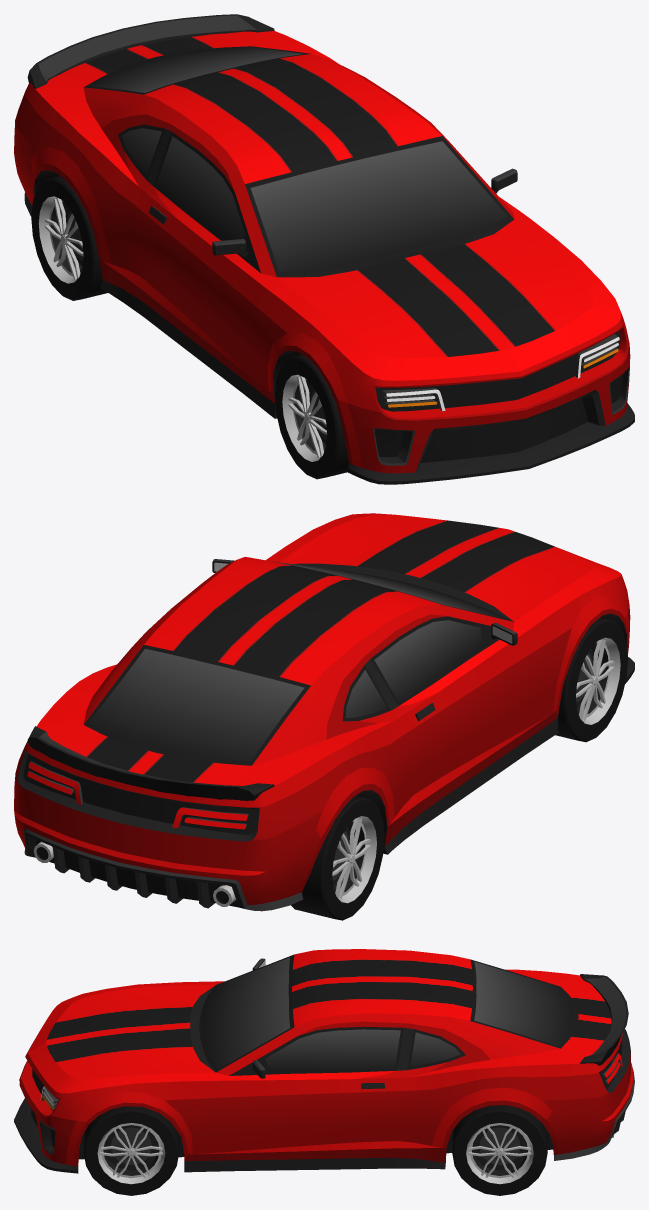
The model's file is Free Racing Car Red.fbx.
The picture shows the model from 3 angles, top to bottom: view 1: azimuth 30°, elevation 25°; view 2: azimuth 150°, elevation 25°; view 3: azimuth 270°, elevation 25°; orthographic projection. The views are drawn at different scales.
Parts seen in each view (by area): view 1: Body, FrontRightWheel, RearRightWheel, Spoiler; view 2: Body, RearRightWheel, FrontRightWheel, Spoiler; view 3: Body, RearLeftWheel, FrontLeftWheel, Spoiler.
Boxes of the visible parts, <box> form: Body: <box>14,31,634,484</box>; FrontRightWheel: <box>275,354,348,479</box>; RearRightWheel: <box>31,176,107,300</box>; Spoiler: <box>27,14,274,88</box>; Body: <box>14,513,634,911</box>; RearRightWheel: <box>291,795,384,920</box>; FrontRightWheel: <box>555,617,627,742</box>; Spoiler: <box>27,726,274,800</box>; Body: <box>14,949,634,1173</box>; RearLeftWheel: <box>452,1105,547,1195</box>; FrontLeftWheel: <box>83,1106,179,1195</box>; Spoiler: <box>580,974,628,1065</box>.
Bounding box in the file's own units: 37.07 × 25.24 × 86.77.
3 materials, 3 textured.
